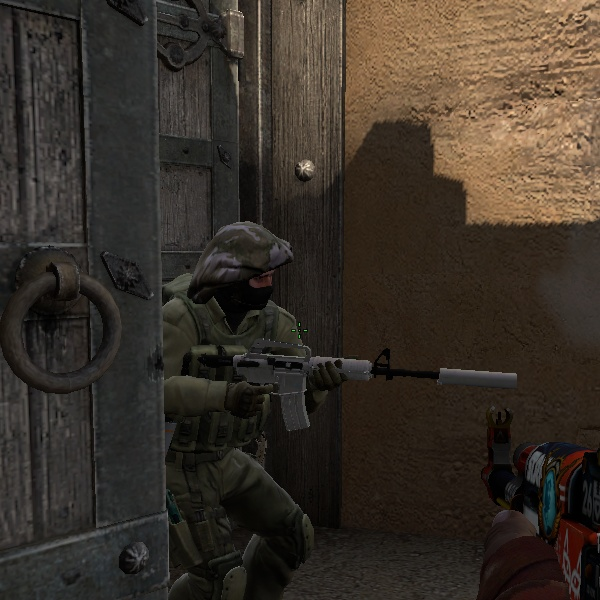ct_body: (112, 220, 350, 600)
ct_head: (188, 222, 299, 326)
